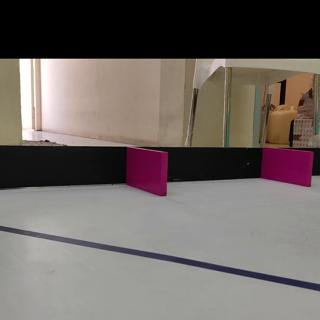xparking: (263, 149, 319, 187), (129, 150, 167, 197)
